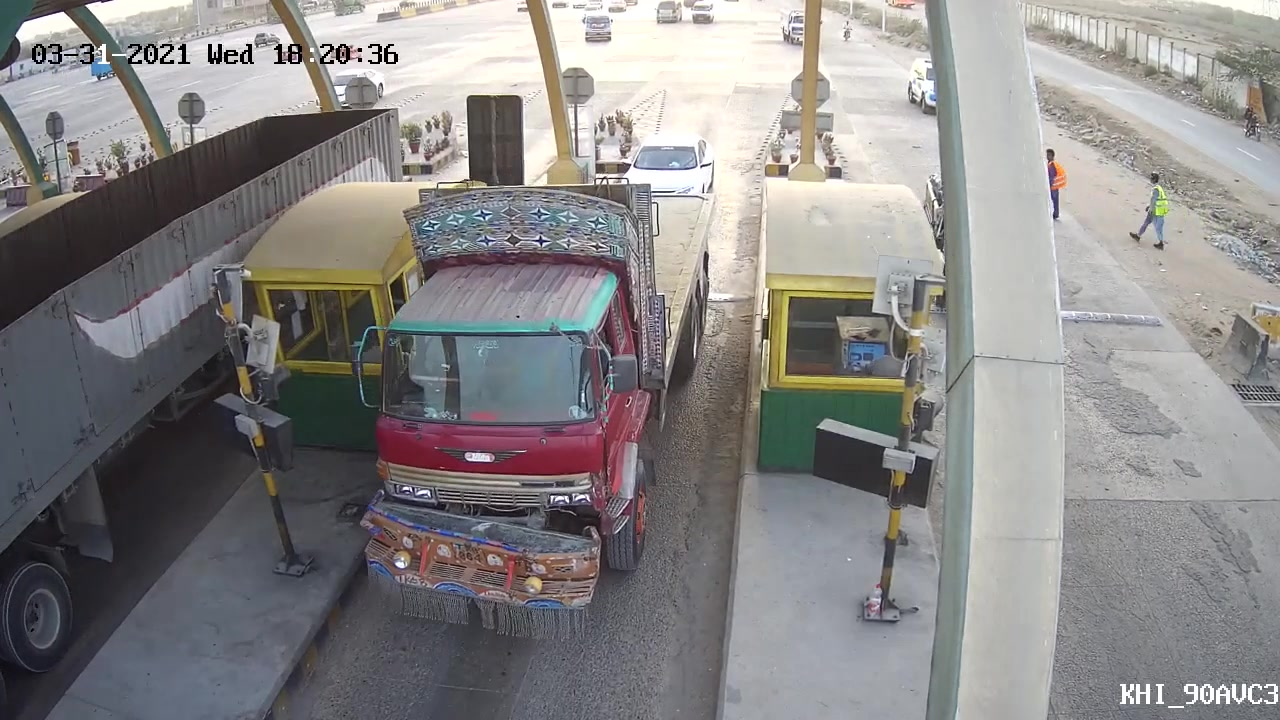F6: (358, 164, 725, 631)
